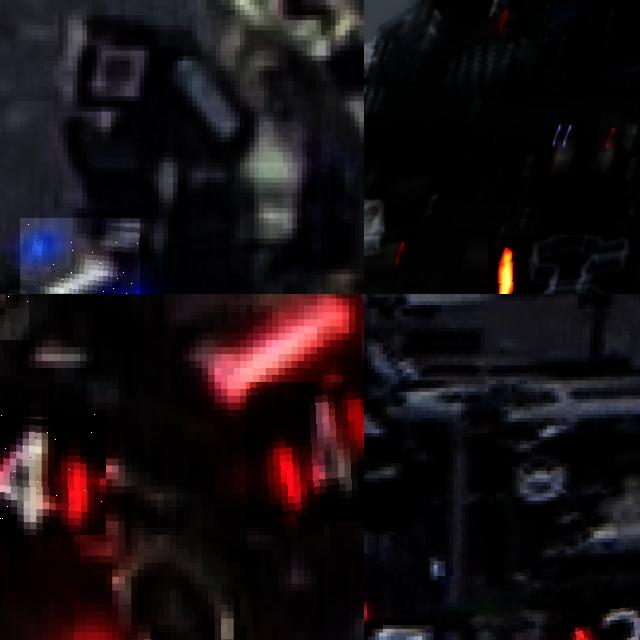B1: (20, 218, 139, 294)
R2: (562, 606, 640, 640)
R4: (246, 382, 364, 521), (0, 410, 105, 535)
Rs: (487, 234, 640, 294)
